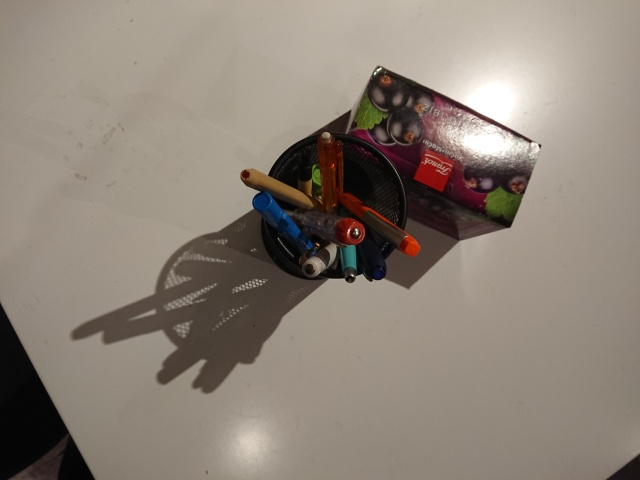Franck Black Currant Tea 60g: (328, 63, 544, 242)
